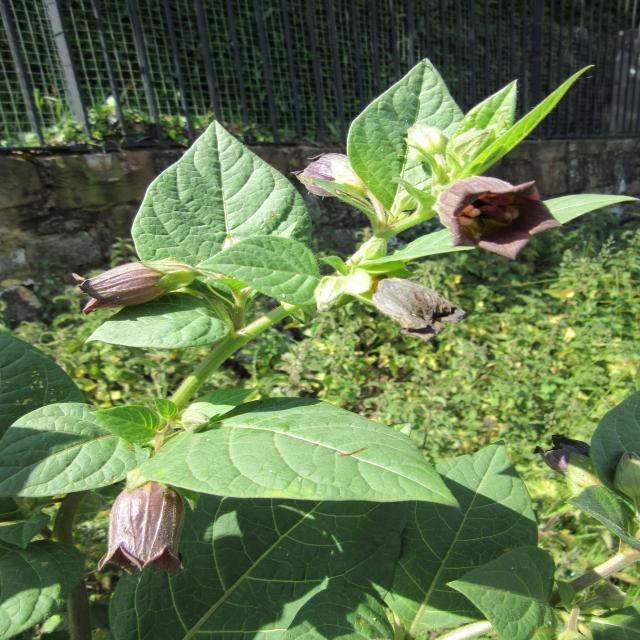Poisonous-Deadly_Nightshade: (22, 403, 456, 640), (288, 56, 638, 342), (69, 120, 319, 416)
